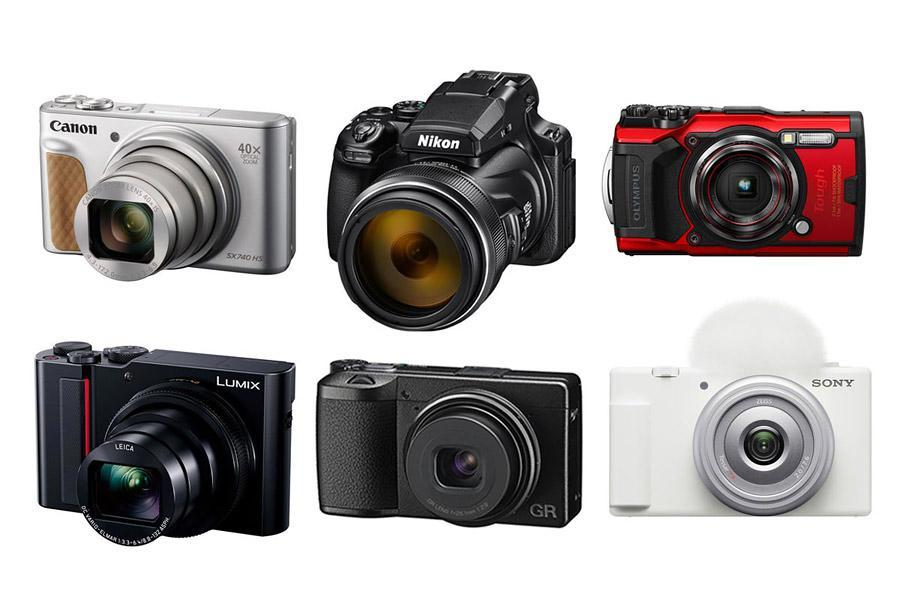degital-camera: (323, 61, 588, 333), (602, 293, 881, 524), (31, 336, 299, 554), (33, 90, 302, 289), (314, 356, 589, 534), (594, 99, 870, 267)
